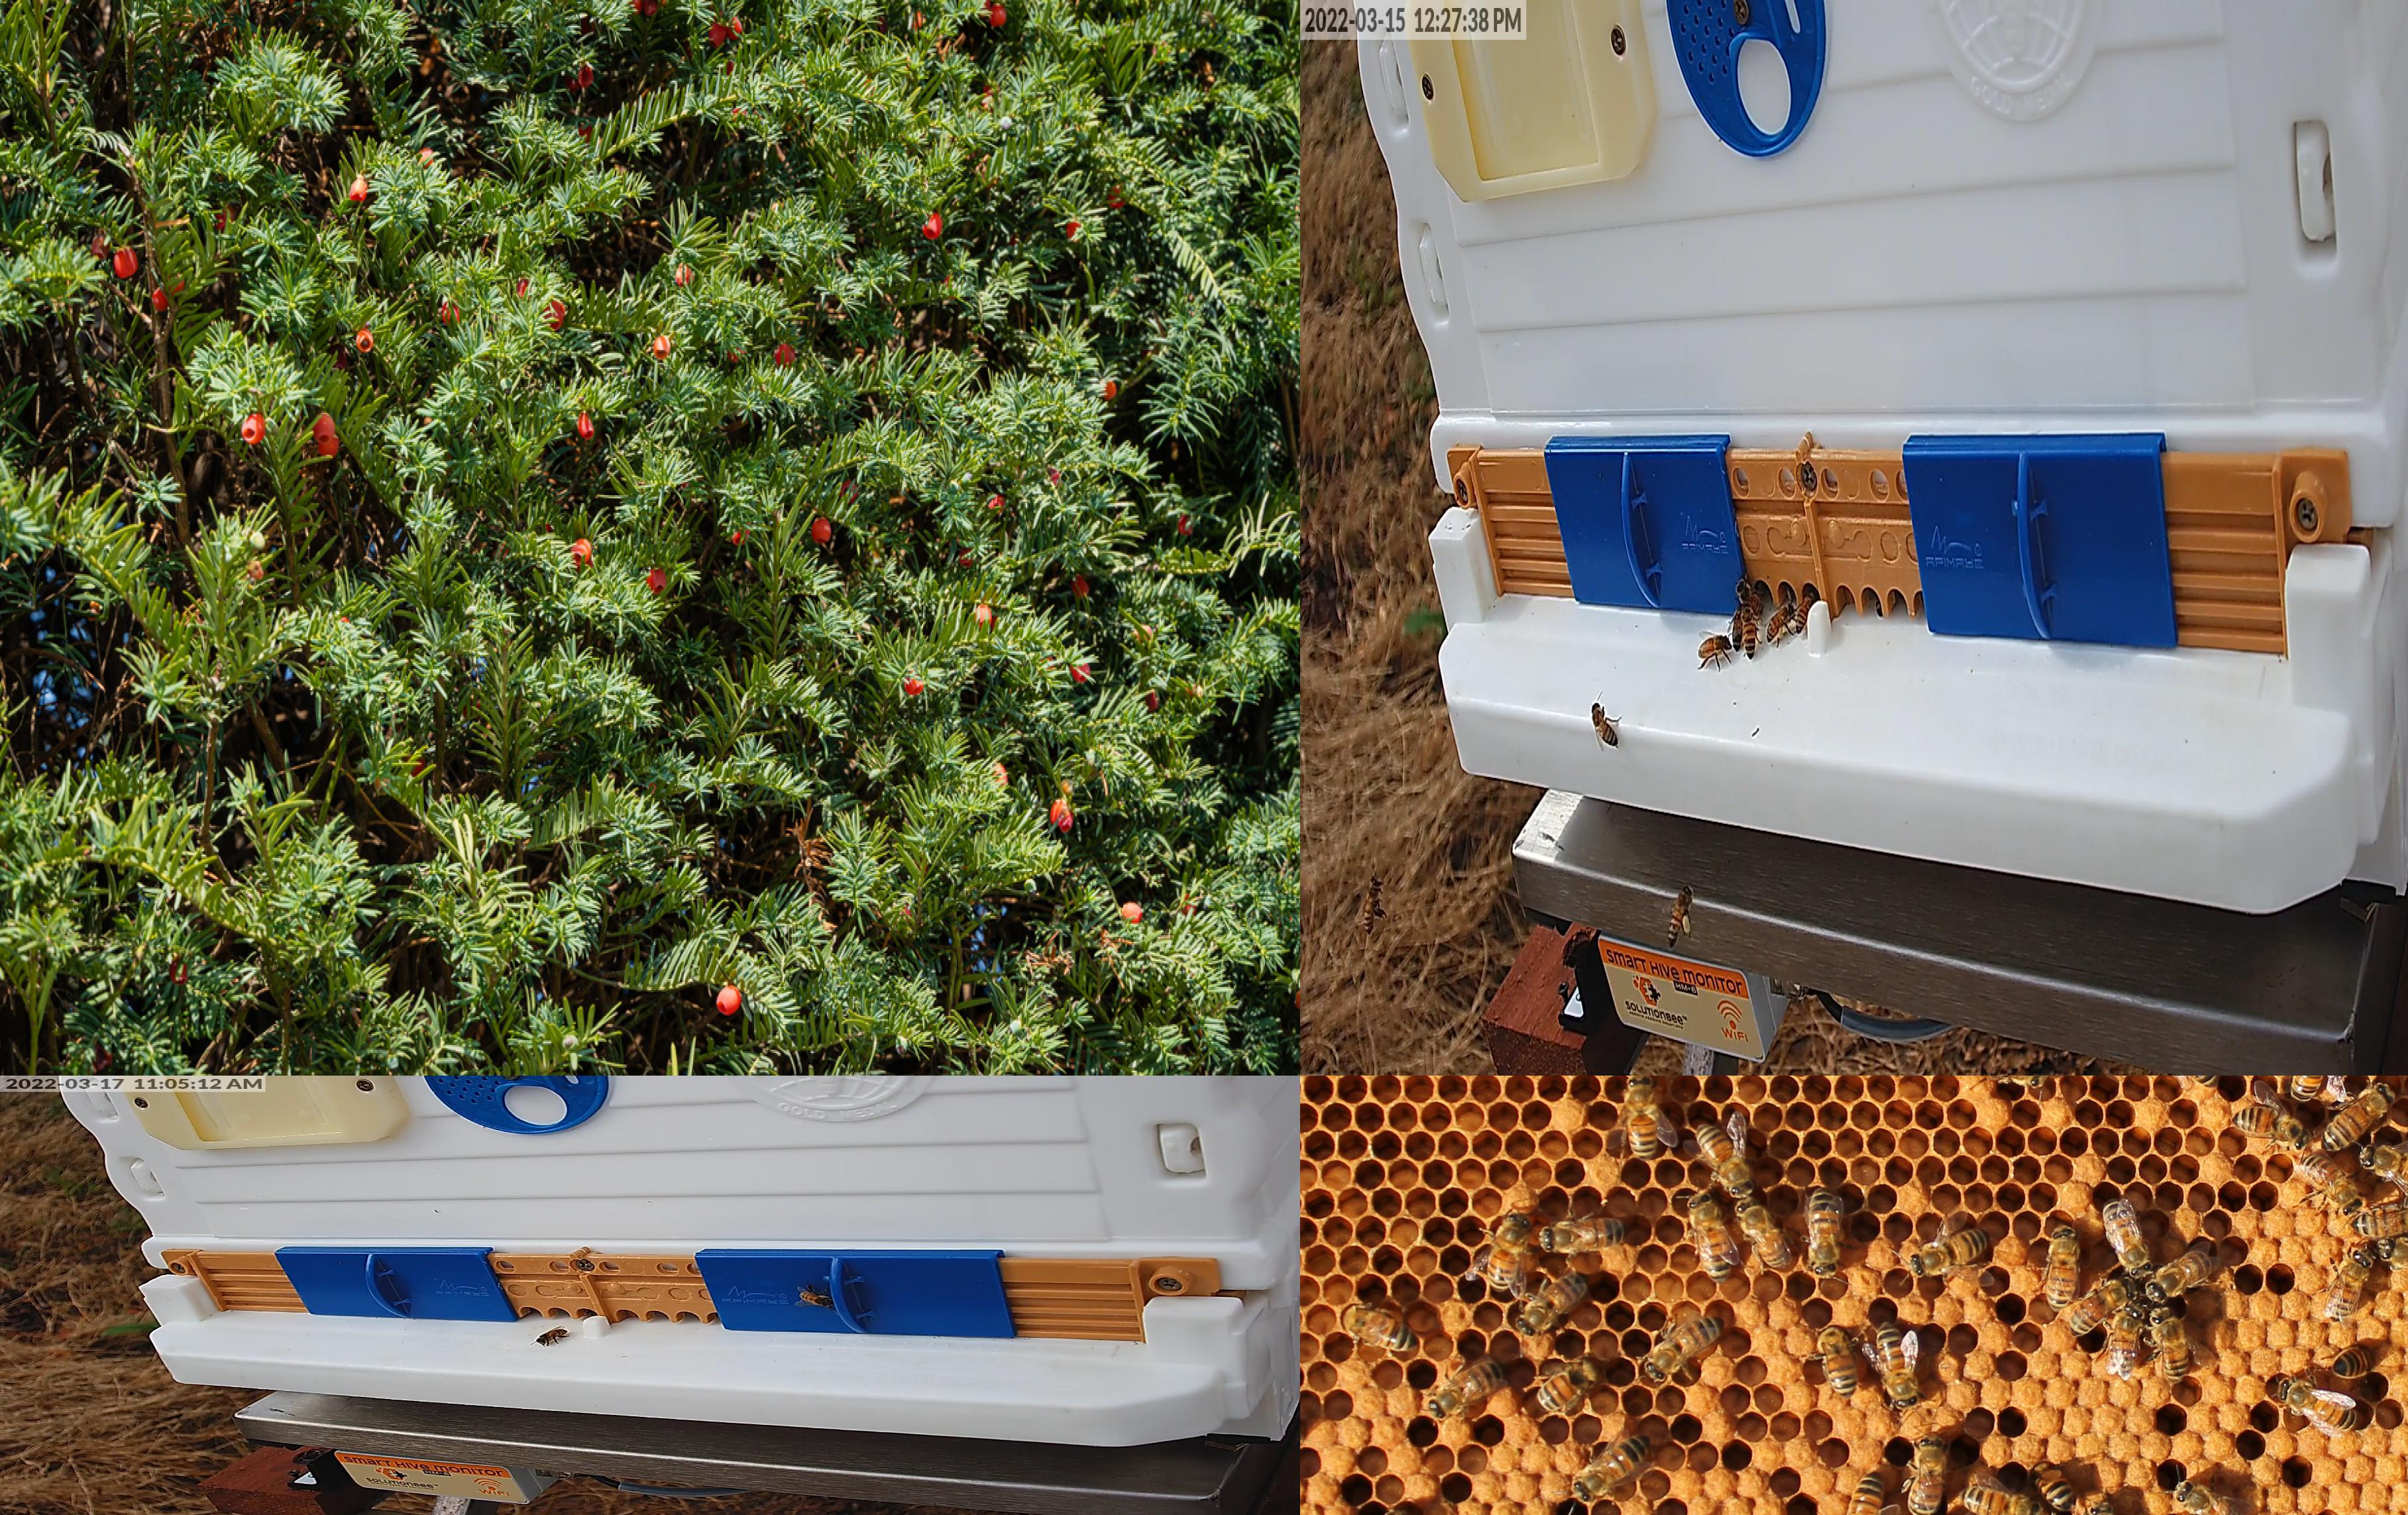bee: (1647, 1318, 1724, 1380), (2323, 1084, 2394, 1151), (1576, 1435, 1649, 1498), (2278, 1380, 2358, 1432), (1518, 1274, 1585, 1333), (1431, 1362, 1503, 1416), (1696, 1125, 1753, 1194), (2103, 1199, 2150, 1277), (1911, 1228, 1989, 1276), (1690, 1195, 1731, 1284), (2071, 1277, 2135, 1335), (1877, 1323, 1918, 1407), (2303, 1156, 2360, 1214), (2232, 1107, 2311, 1149), (1739, 1201, 1788, 1266), (1488, 1213, 1528, 1291), (1537, 1360, 1598, 1410), (2150, 1251, 2211, 1298), (1345, 1308, 1413, 1350), (2150, 1306, 2187, 1382), (2045, 1228, 2079, 1309), (1908, 1439, 1943, 1514), (2328, 1253, 2369, 1316), (1542, 1219, 1625, 1250), (1820, 1327, 1857, 1396), (1809, 1188, 1838, 1275), (1628, 1076, 1657, 1156), (1962, 1486, 2040, 1514), (2179, 1482, 2244, 1514), (2111, 1304, 2140, 1373), (2363, 1147, 2407, 1188), (2352, 1204, 2407, 1236), (2034, 1465, 2072, 1508), (1849, 1471, 1883, 1514), (1364, 877, 1384, 932), (2291, 1076, 2330, 1101), (1735, 577, 1763, 613), (2334, 1347, 2370, 1375), (1592, 704, 1616, 744), (1963, 1076, 2047, 1087), (2381, 1239, 2407, 1274), (1796, 593, 1816, 634), (1741, 606, 1756, 660), (1698, 636, 1731, 660), (799, 1291, 832, 1306), (537, 1329, 568, 1345), (1731, 608, 1742, 650)
pollenbee: (1669, 883, 1692, 941), (1766, 601, 1794, 644)
